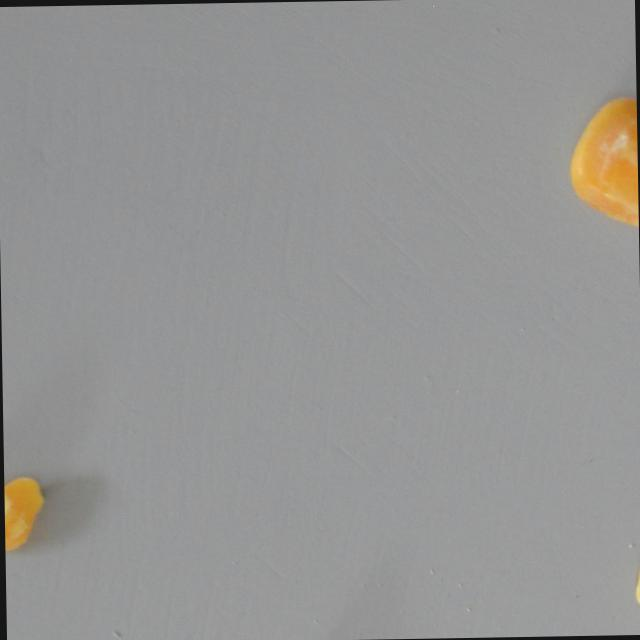pelicula: (564, 90, 639, 237), (3, 474, 45, 556), (632, 551, 640, 628)
